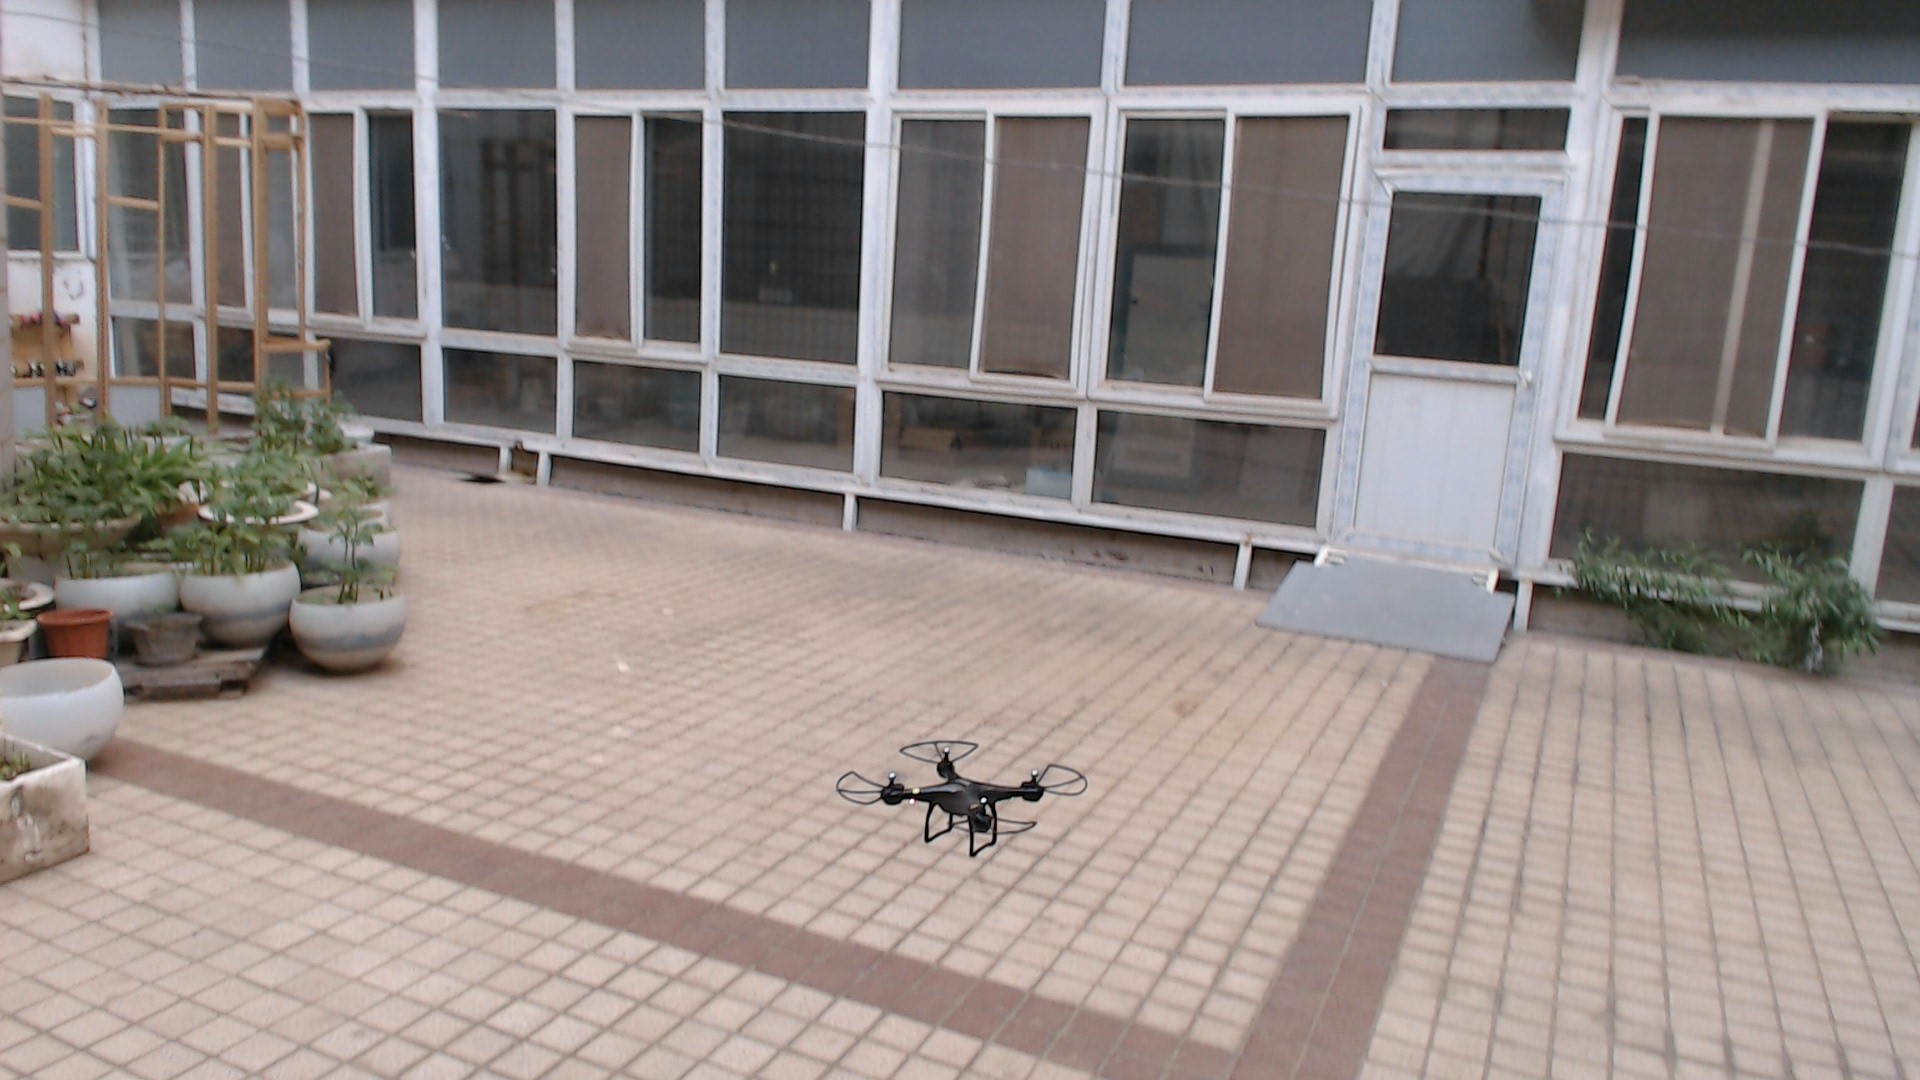drone: (820, 703, 1101, 884)
